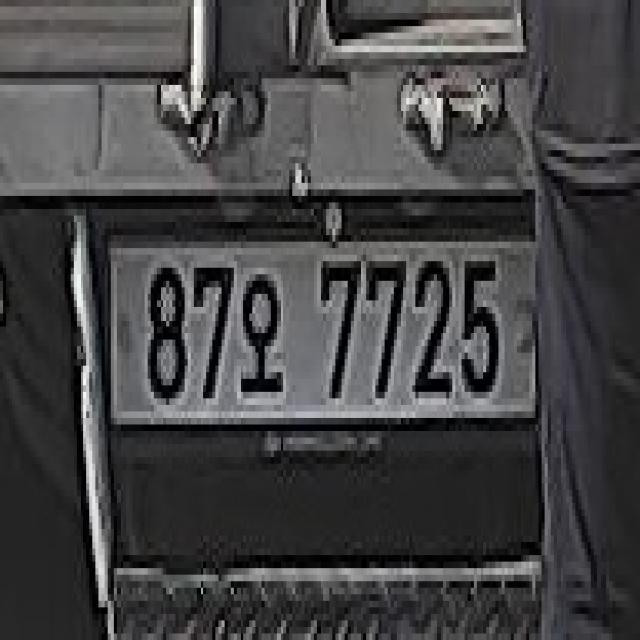plat: (104, 228, 538, 429)
